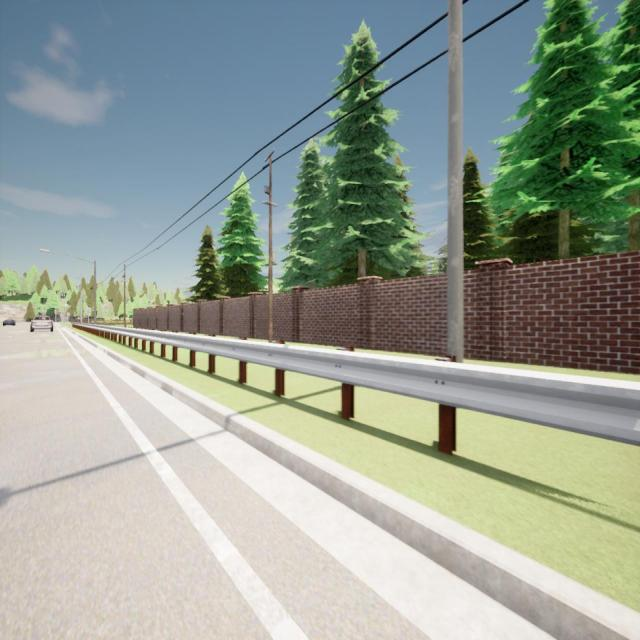Traffic_Signs: (86, 307, 92, 314)
Vehicle: (30, 315, 53, 332), (2, 318, 16, 326)
